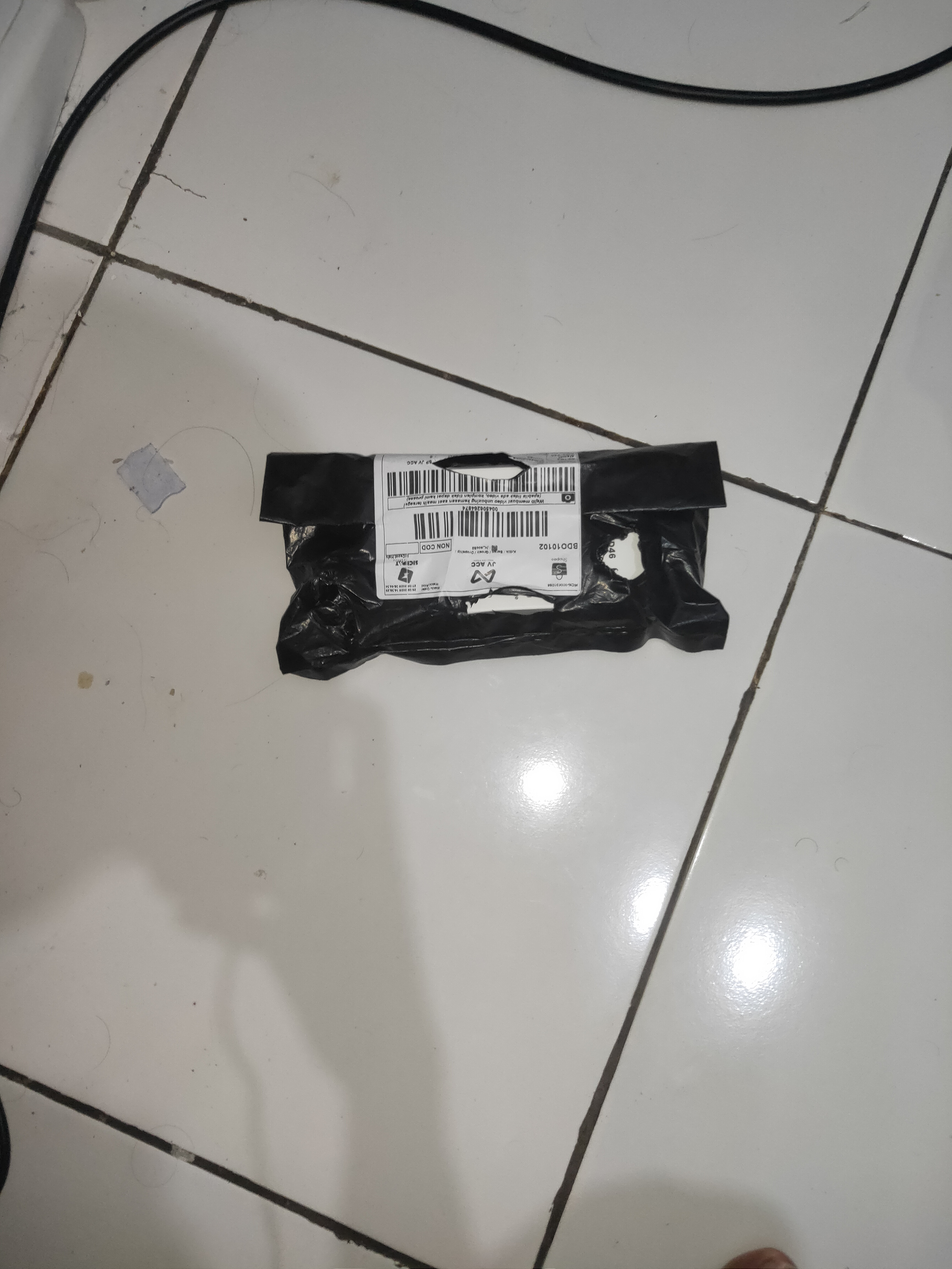damaged package: (597, 526, 647, 586), (430, 454, 533, 483), (461, 589, 558, 616), (316, 577, 345, 606)
undamaged: (262, 444, 729, 683)
